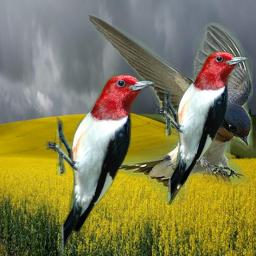Swallow: (69, 10, 253, 205)
Woodpecker: (44, 74, 158, 254), (154, 51, 250, 204)
